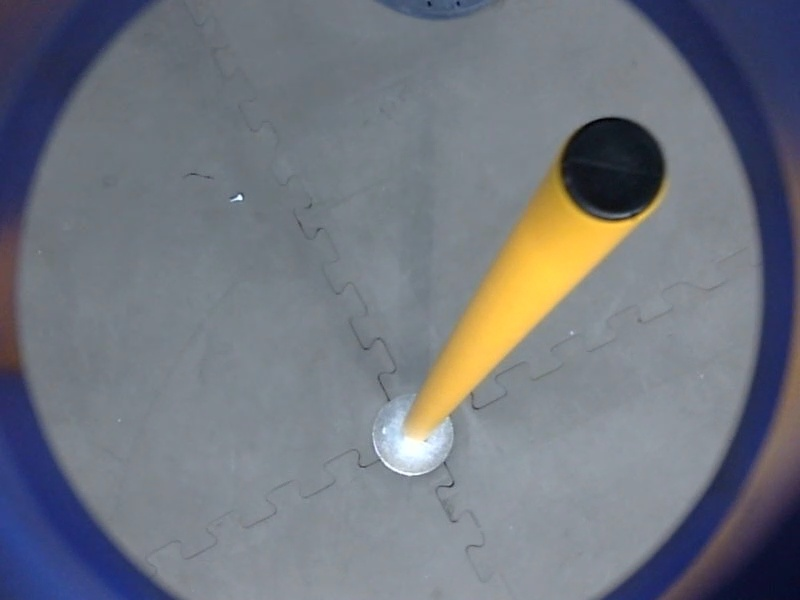tip: (553, 110, 675, 228)
